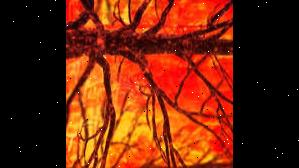fire: (65, 0, 233, 168)
